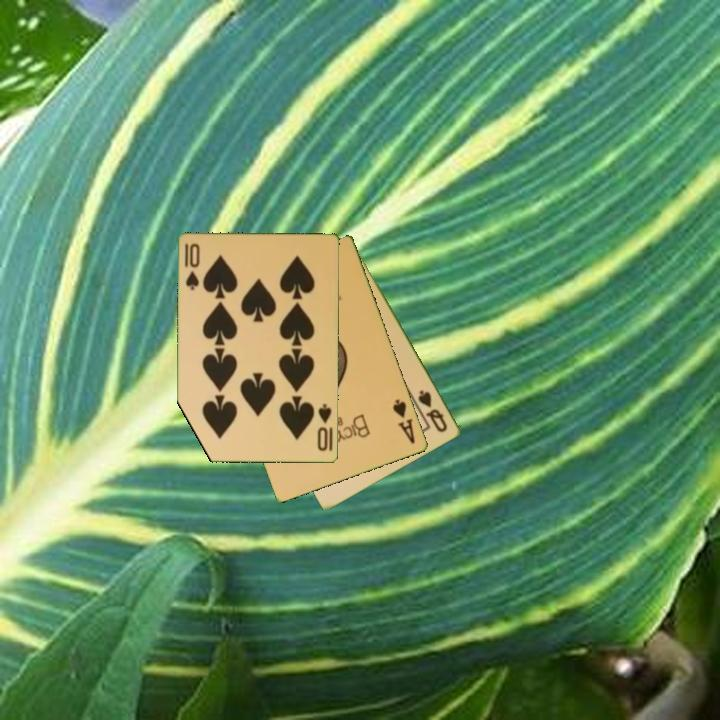10s: (181, 240, 203, 293), (314, 401, 335, 454)
As: (389, 396, 418, 447)
Qs: (415, 386, 451, 436)
